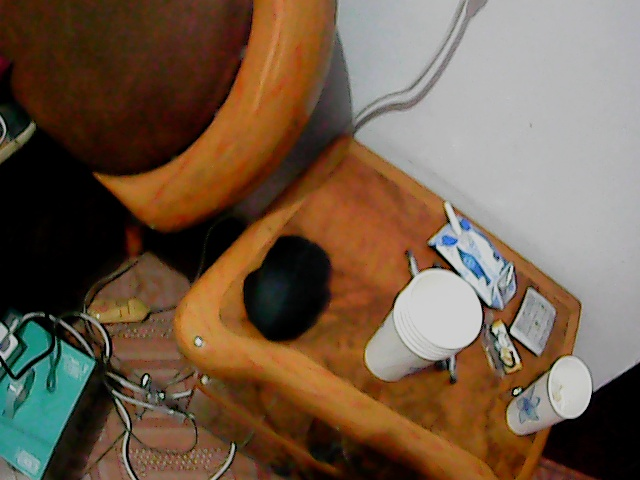cup: (364, 266, 485, 388)
mouse: (242, 231, 333, 343)
